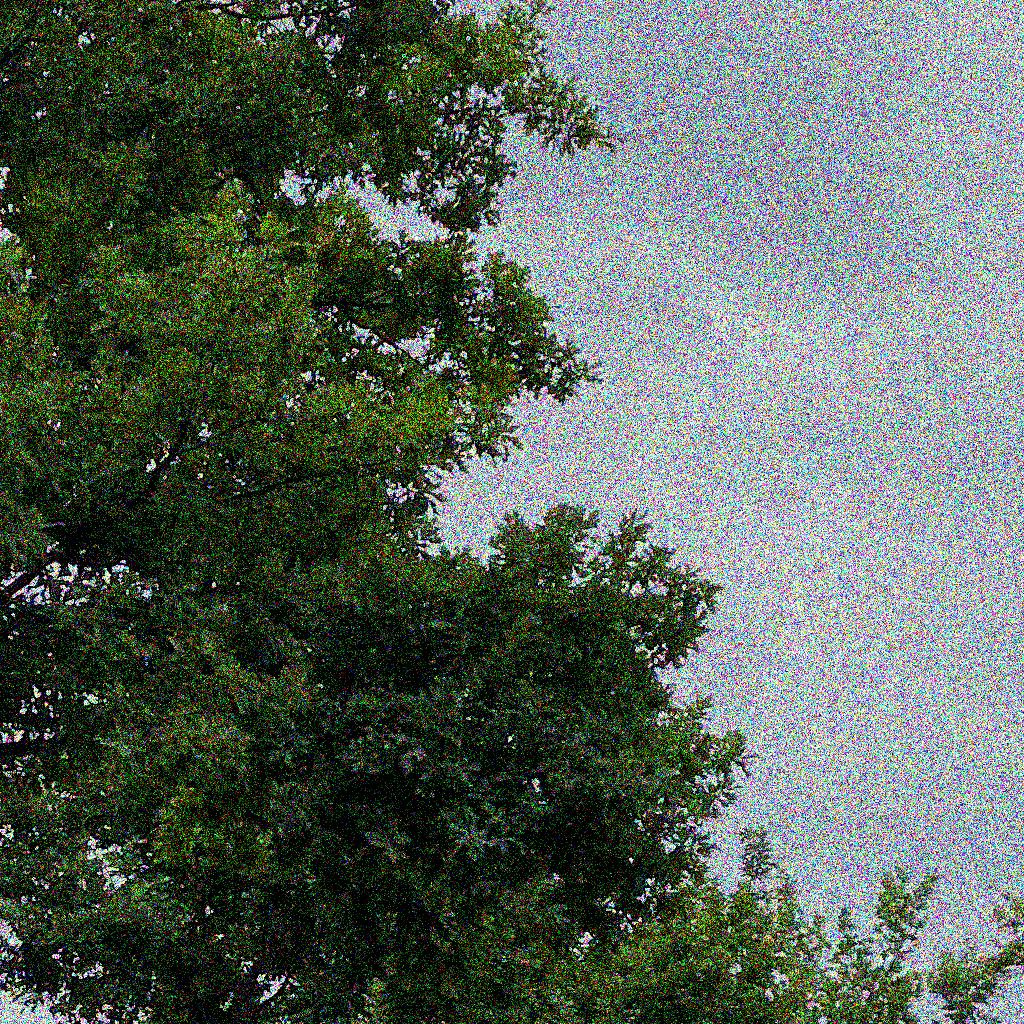tree: (1, 1, 634, 1023), (4, 500, 759, 1017), (563, 866, 1024, 1024)
